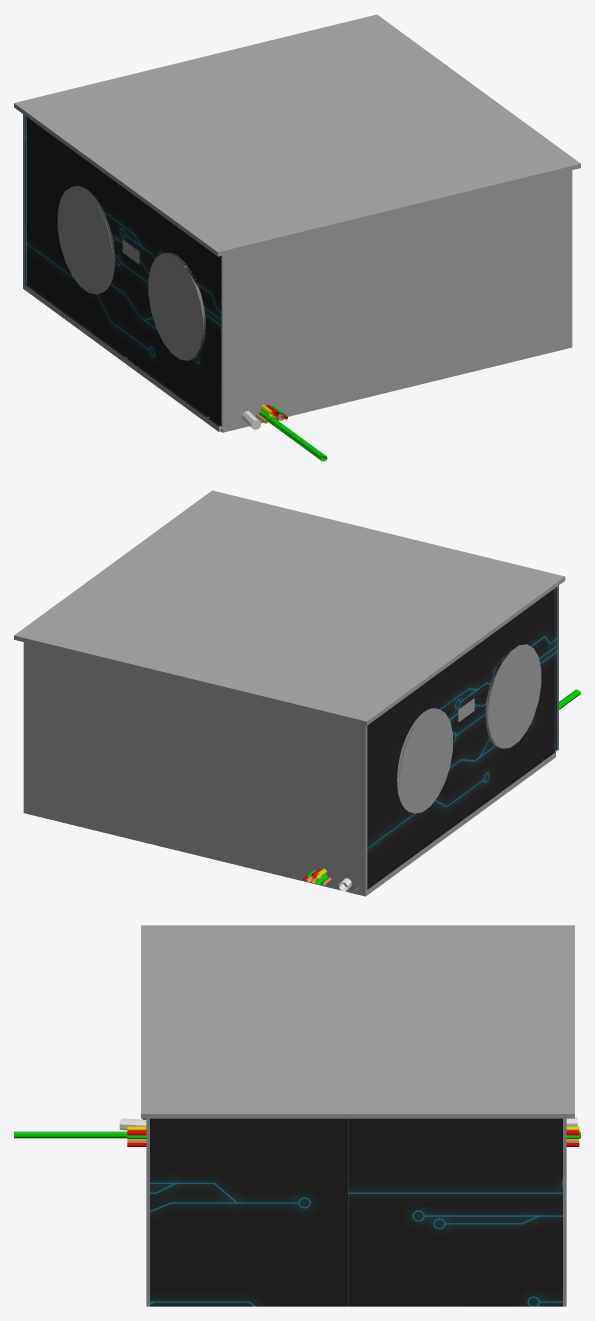
Rendered from speaker box.fbx.
The picture shows the model from 3 angles, top to bottom: view 1: azimuth 30°, elevation 25°; view 2: azimuth 150°, elevation 25°; view 3: azimuth 270°, elevation 25°; orthographic projection. The views are drawn at different scales.
Parts seen in each view (by area): view 1: speaker_box; view 2: speaker_box; view 3: speaker_box.
Part boxes in pixels (x1=…): speaker_box: x1=14, y1=14, x2=580, y2=461; speaker_box: x1=14, y1=490, x2=580, y2=896; speaker_box: x1=14, y1=925, x2=580, y2=1306.
Bounding box in the file's own units: 86.87 × 42.09 × 110.
19 materials, 7 textured.
